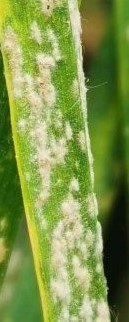Powdery Mildew: (2, 30, 109, 275)
